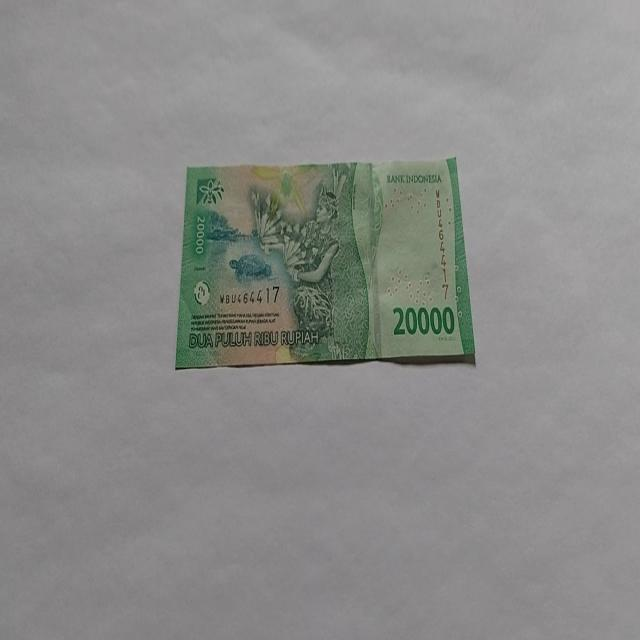dua puluh ribu rupiah: (174, 156, 476, 370)
